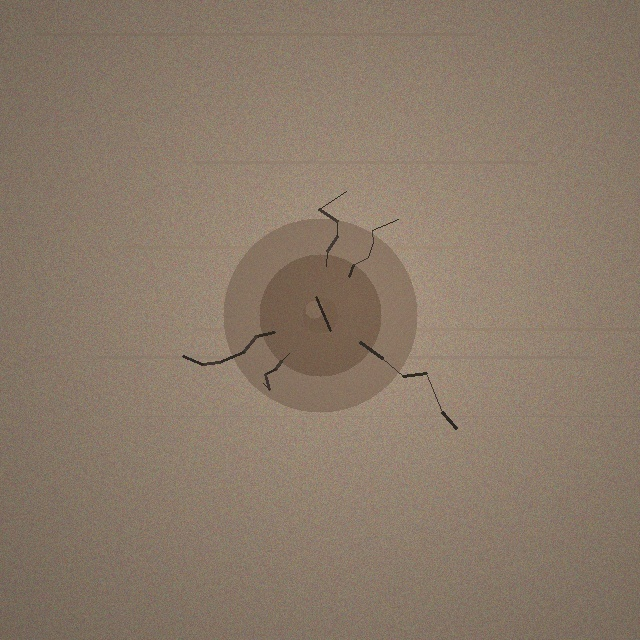crack: (223, 218, 417, 412)
